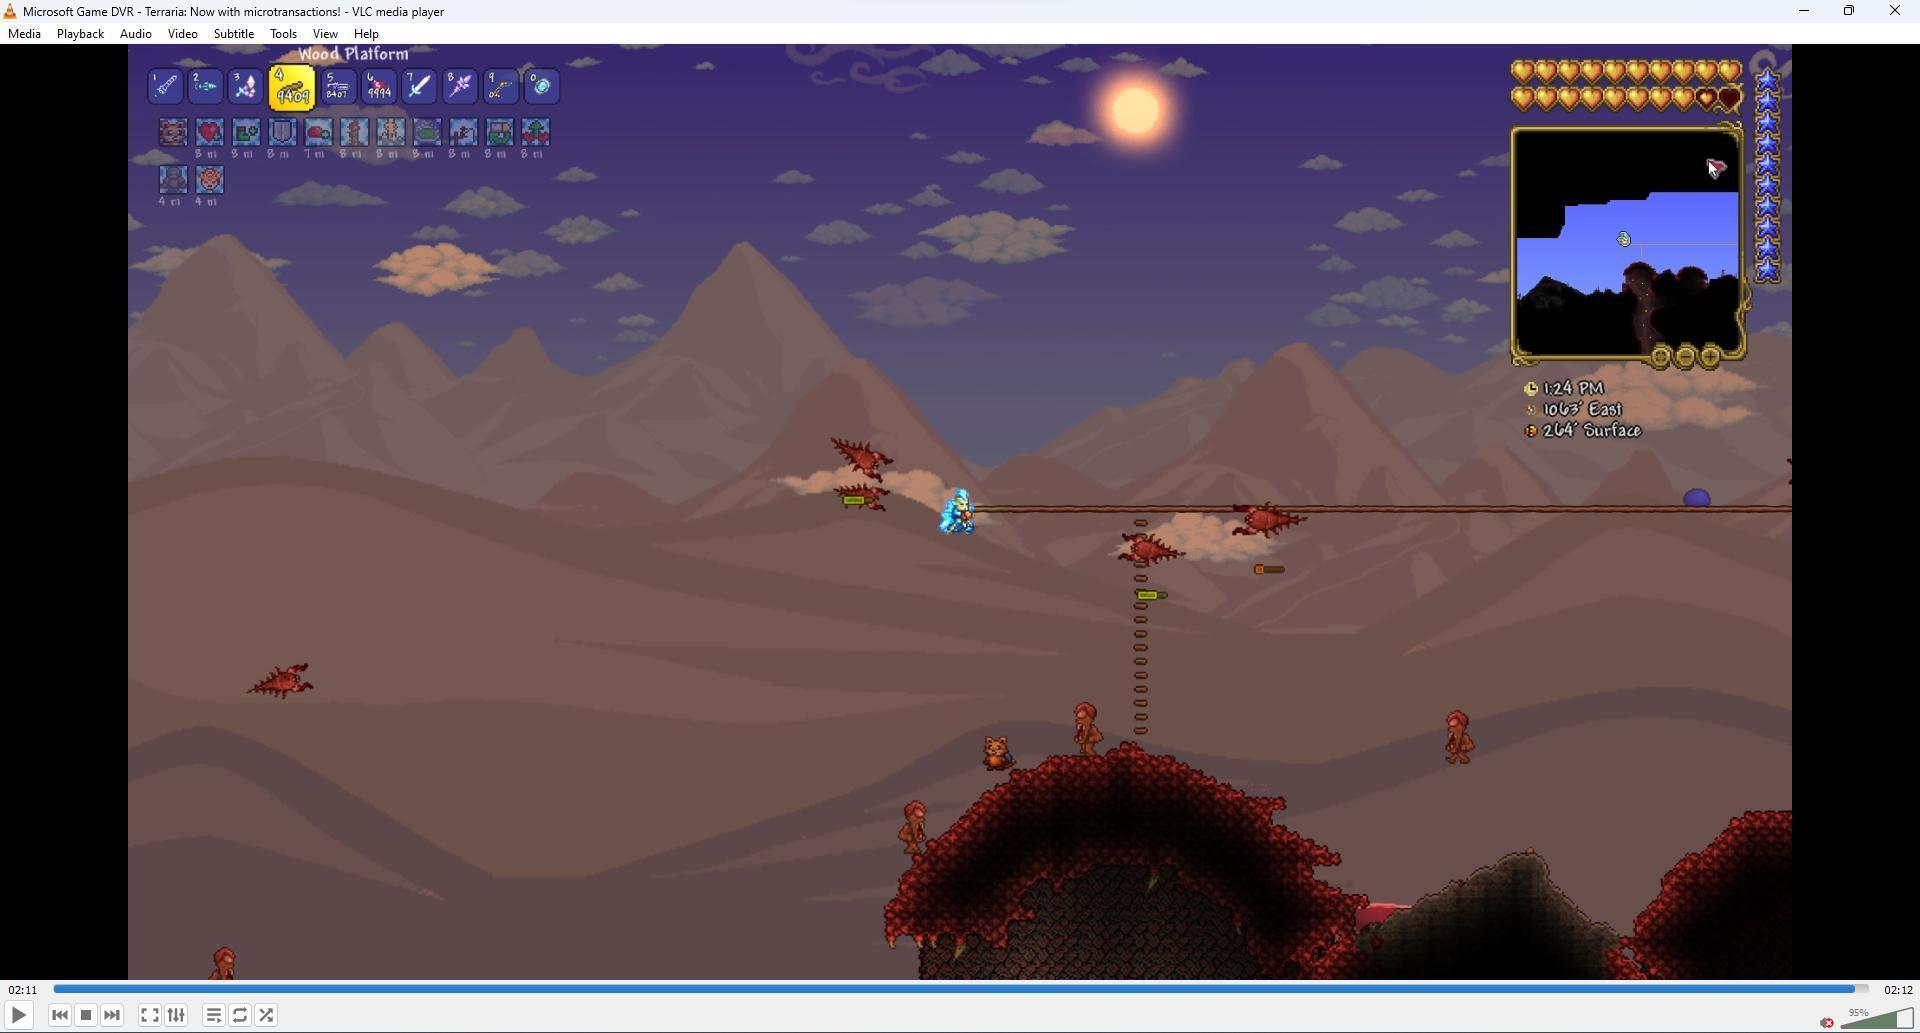crimera: (247, 658, 322, 702), (1232, 499, 1307, 541), (833, 435, 895, 485), (1116, 530, 1183, 566)
slime: (1680, 483, 1715, 511)
zombie: (1438, 702, 1481, 771), (1072, 697, 1106, 762), (898, 800, 932, 864)
